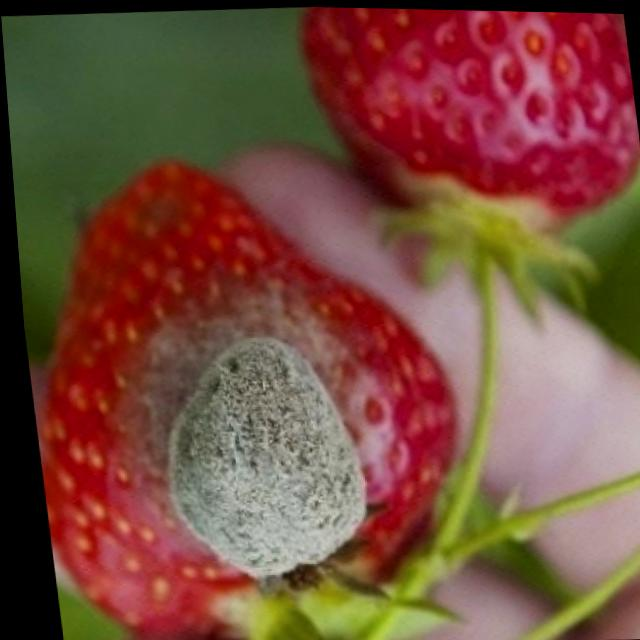Gray Mold: (109, 275, 377, 580)
